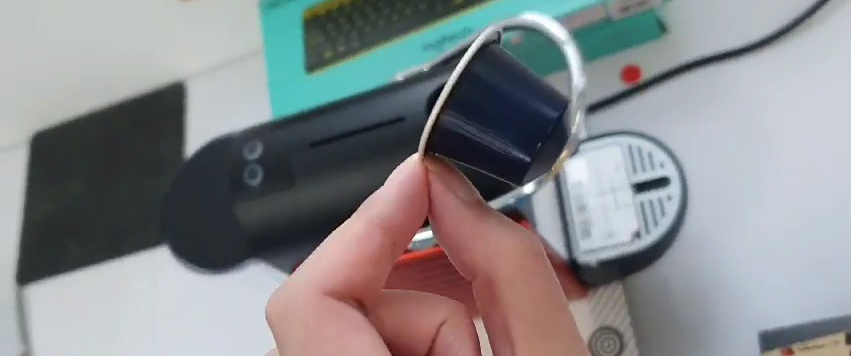capsule_1: (411, 25, 577, 192)
